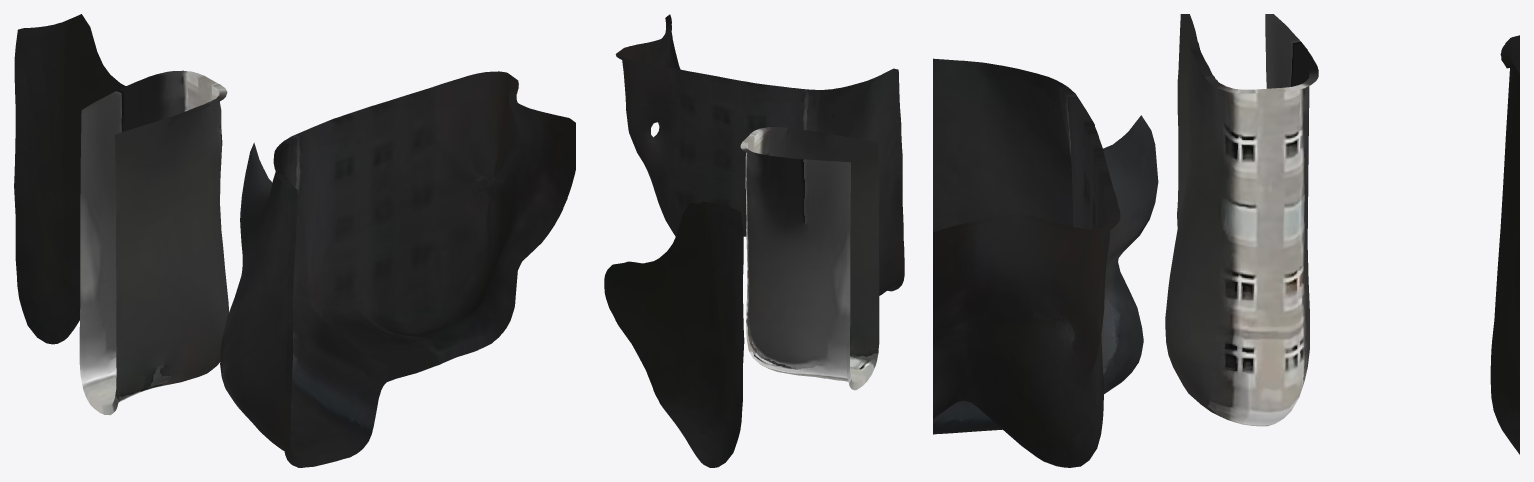
The model's file is z20-167767-405238-h0-yup-uvflip-v3-world.glb.
The picture shows the model from 3 angles, left to right: view 1: azimuth 30°, elevation 25°; view 2: azimuth 150°, elevation 25°; view 3: azimuth 270°, elevation 25°; orthographic projection. The views are drawn at different scales.
Bounding box in the file's own units: 26.68 × 23.08 × 30.32.
Materials: 1 (1 with a texture image).
